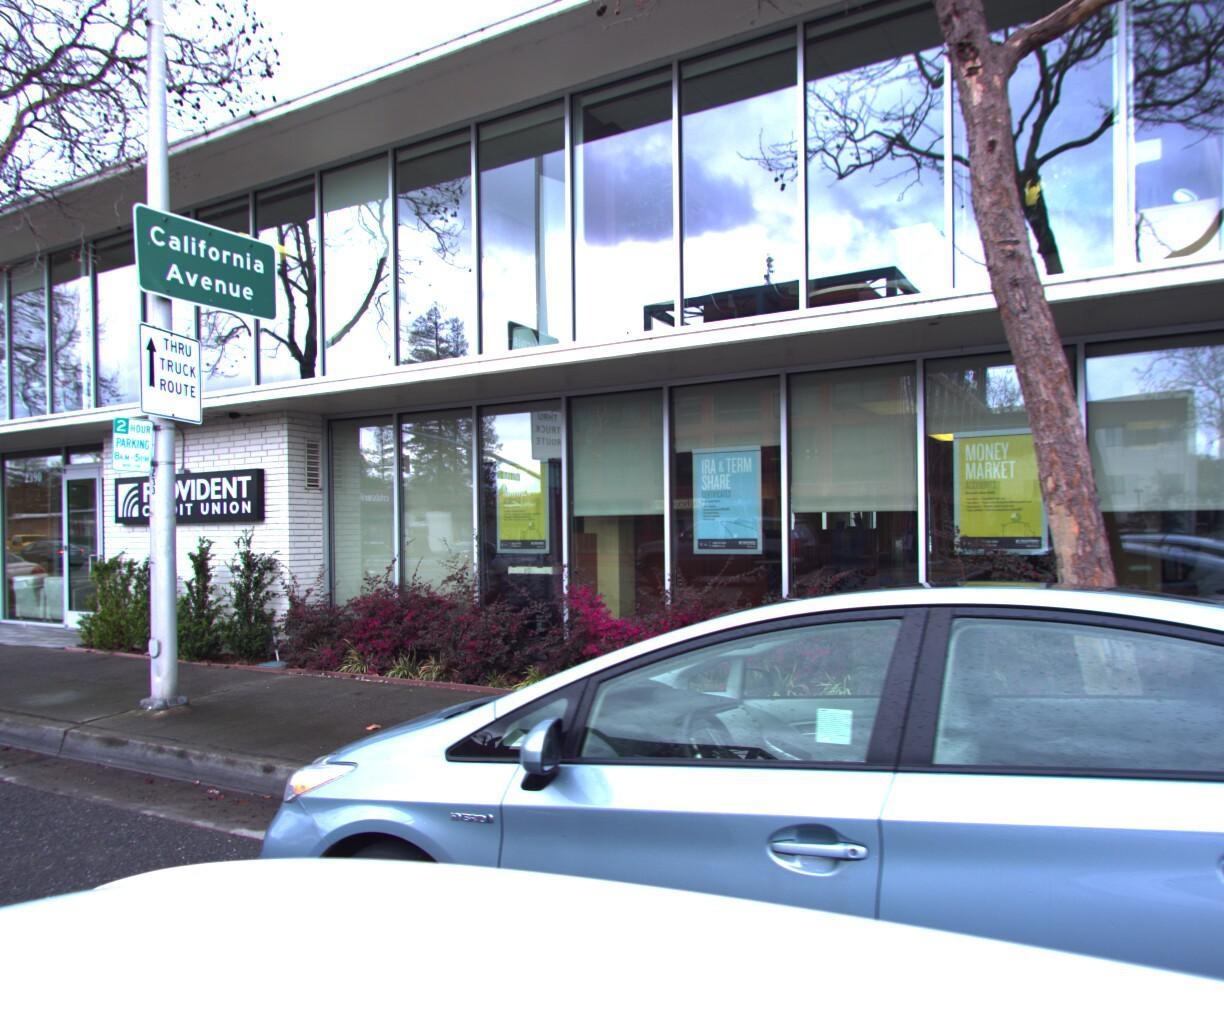car: (180, 535, 1224, 1024)
